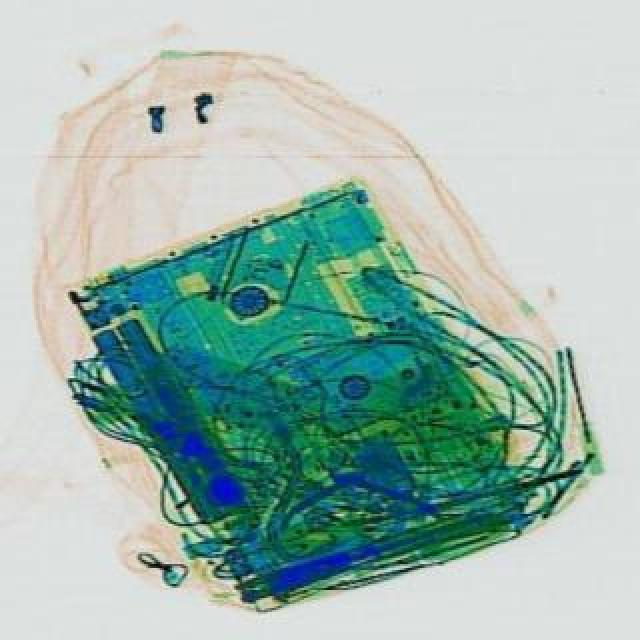wrench: (272, 462, 438, 534)
